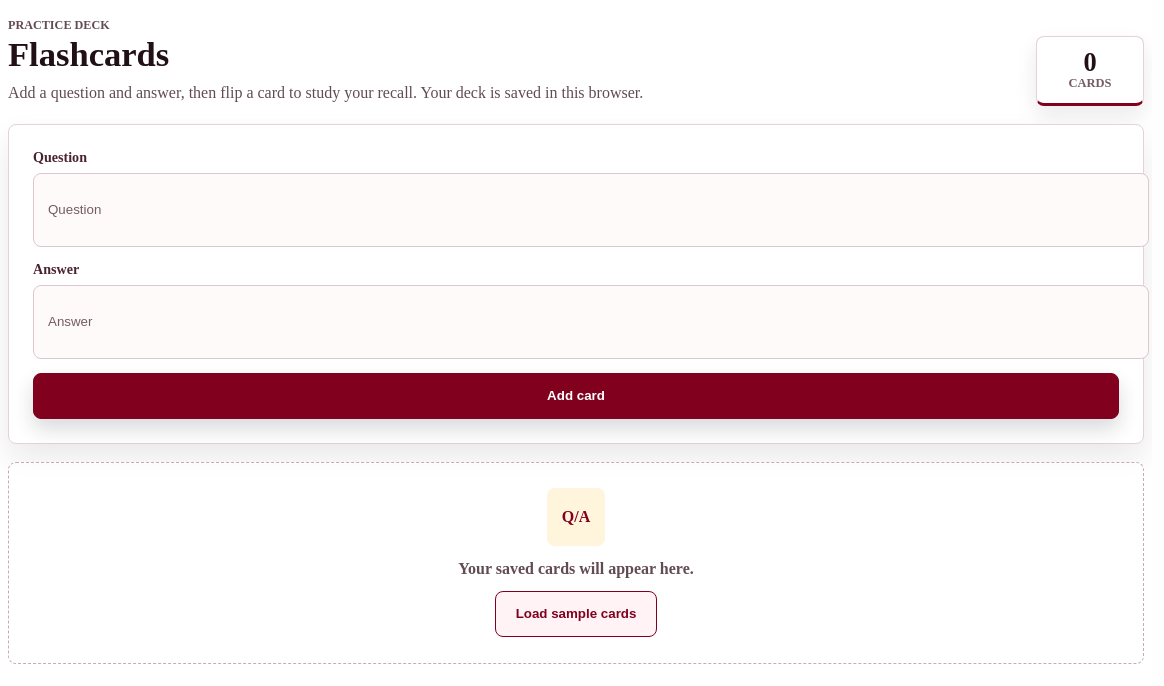
it: flashcard deck › adds a card, shows its question, and clears the form
The width and height of the screenshot is (1164, 686).
Step 1. Clear the field with placeholder "Question" → (591, 210), box [33,173,1149,247]
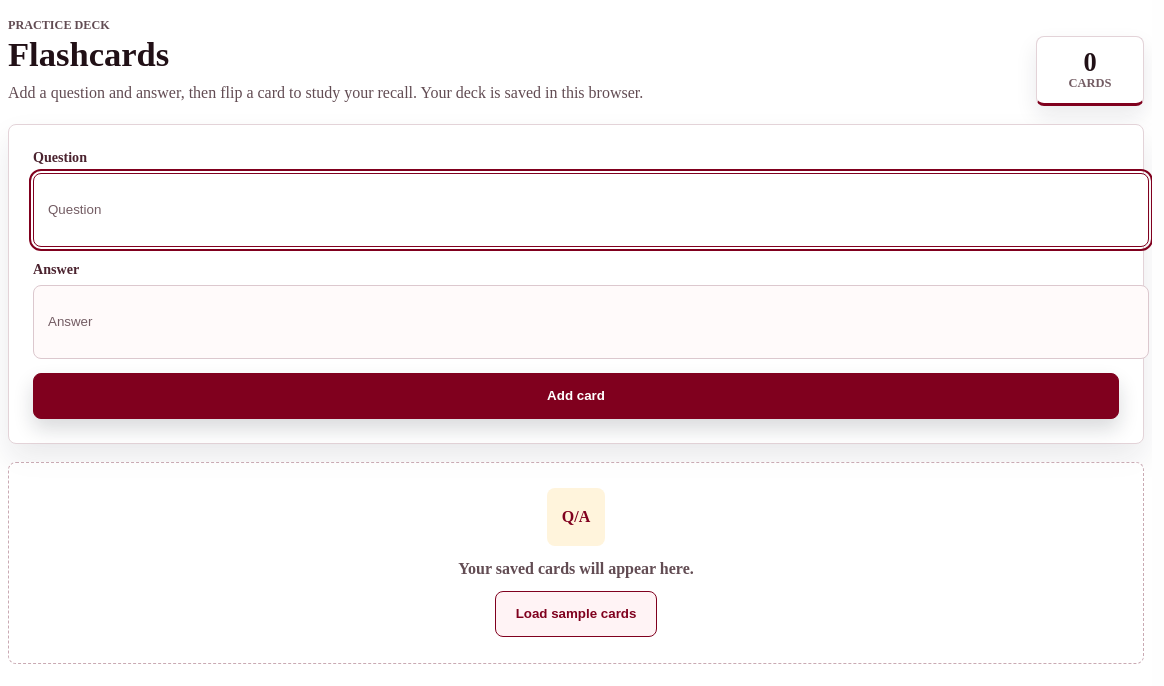
Step 2. Clear the field with placeholder "Answer" → (591, 322), box [33,285,1149,359]
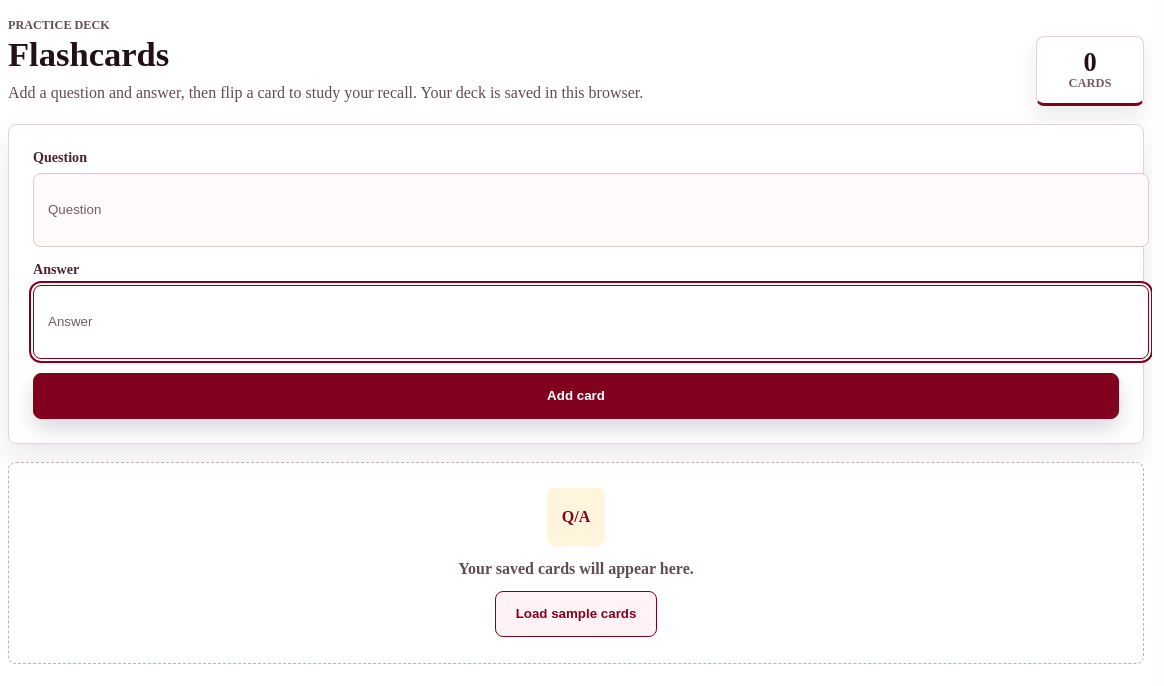
Step 3. Type "What does JSX compile to?" into the field with placeholder "Question" → (591, 210), box [33,173,1149,247]
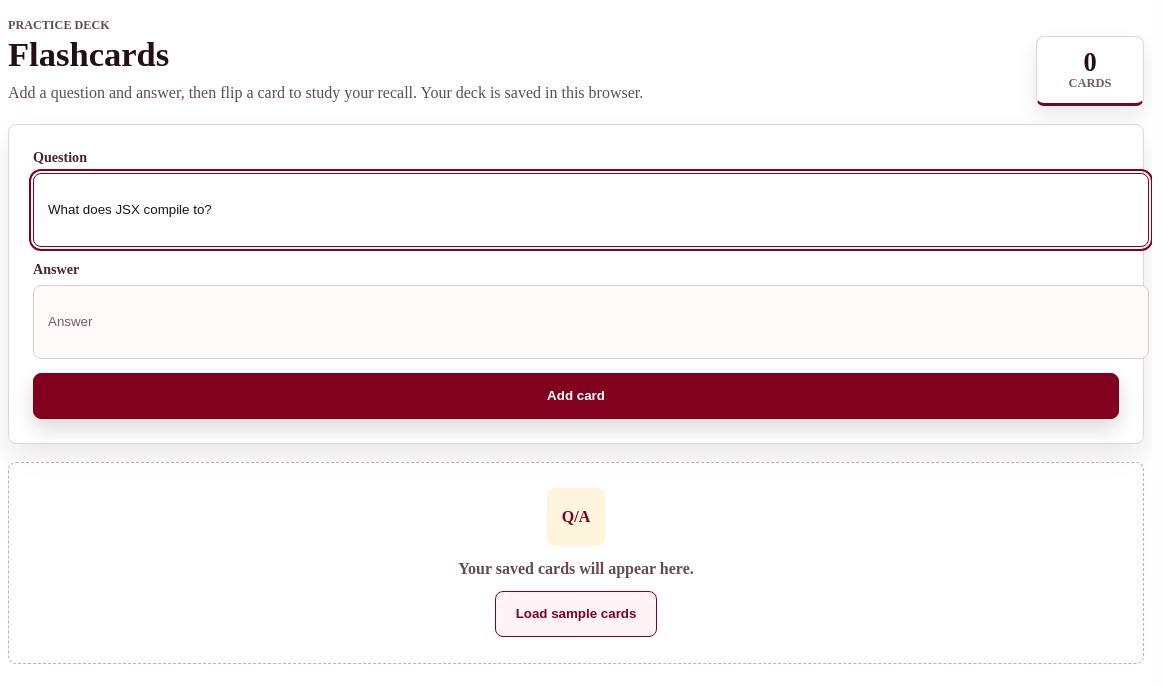
Step 4. Type "React.createElement calls" into the field with placeholder "Answer" → (591, 322), box [33,285,1149,359]
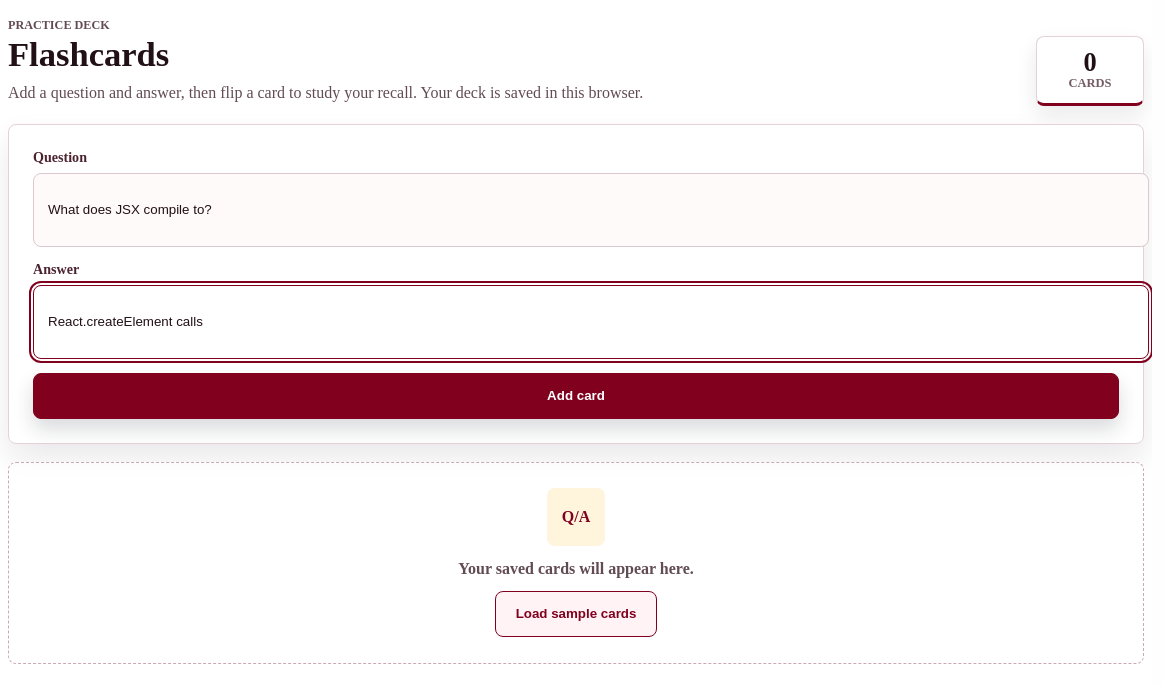
Step 5. Click the button "Add card" → click(576, 396), box [33,373,1119,419]
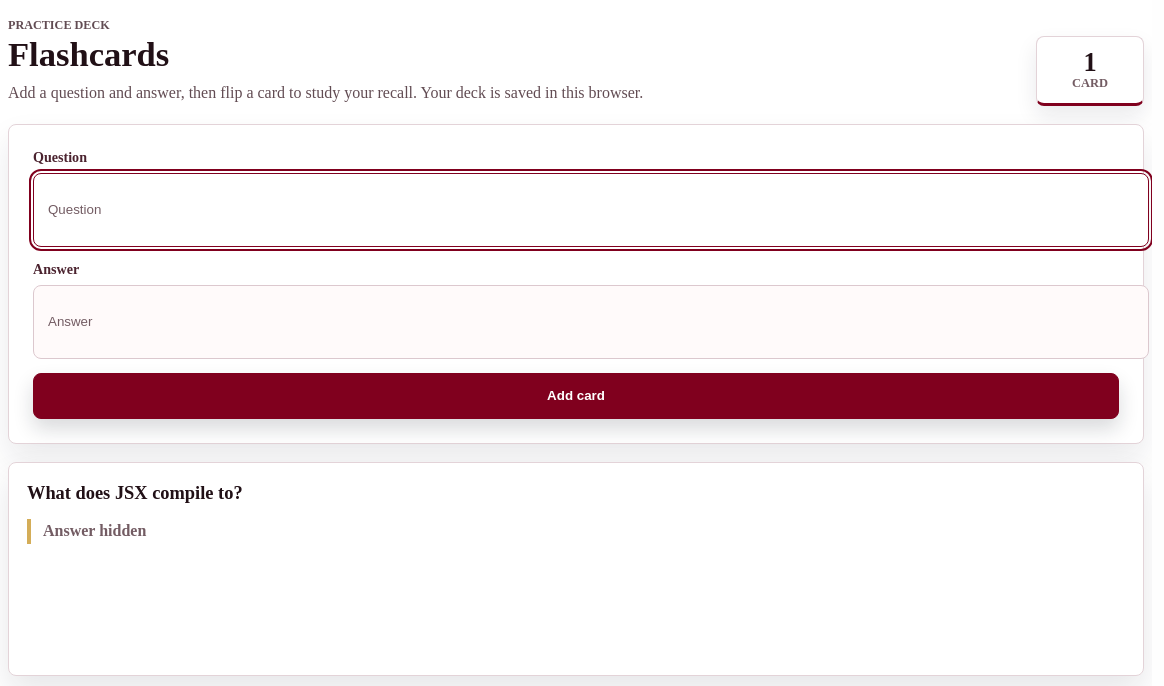
Check: the heading "What does JSX compile to?" is shown, box [27,483,243,503]
